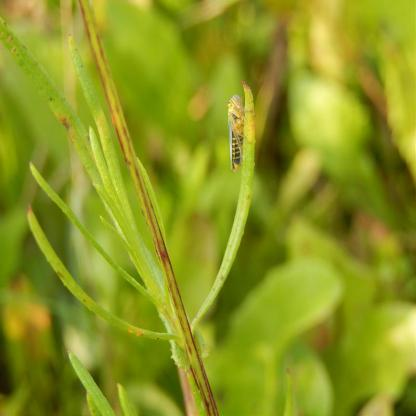Green-Leafhopper: (221, 89, 250, 166)
